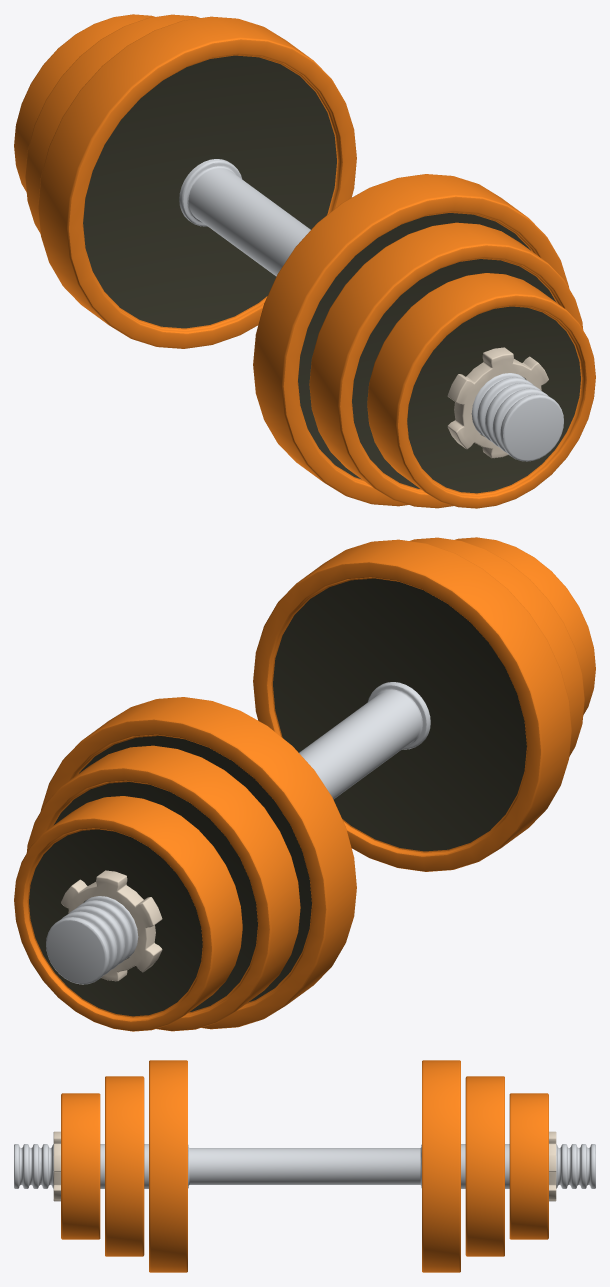
The model's file is stylized_dumbell.glb.
3 views of the same model, one above another, from view 1: azimuth 30°, elevation 25°; view 2: azimuth 150°, elevation 25°; view 3: azimuth 270°, elevation 25° (orthographic). The views are drawn at different scales.
Visible parts, largest first — view 1: Dumbell; view 2: Dumbell; view 3: Dumbell.
Part boxes in pixels (x1=…): Dumbell: x1=14, y1=14, x2=595, y2=508; Dumbell: x1=14, y1=537, x2=595, y2=1031; Dumbell: x1=14, y1=1060, x2=595, y2=1272.
Size of the model in its own units: 0.1386 by 0.1386 by 0.3795.
